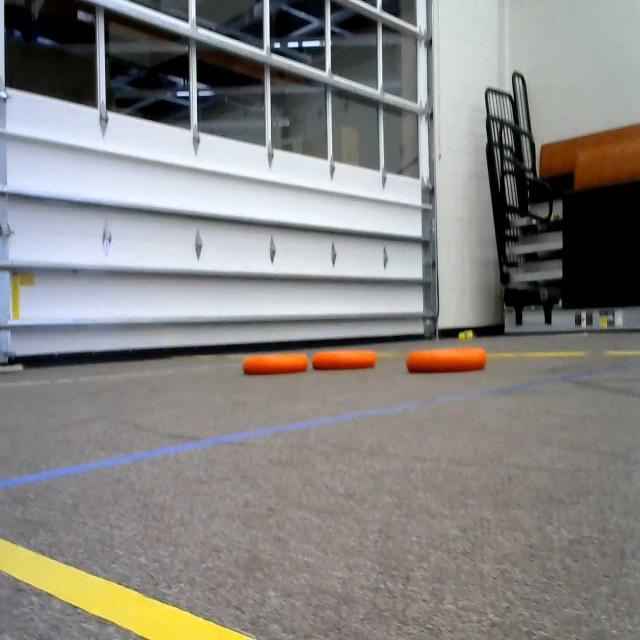note: (402, 334, 496, 378), (242, 338, 311, 378), (312, 341, 382, 371)
